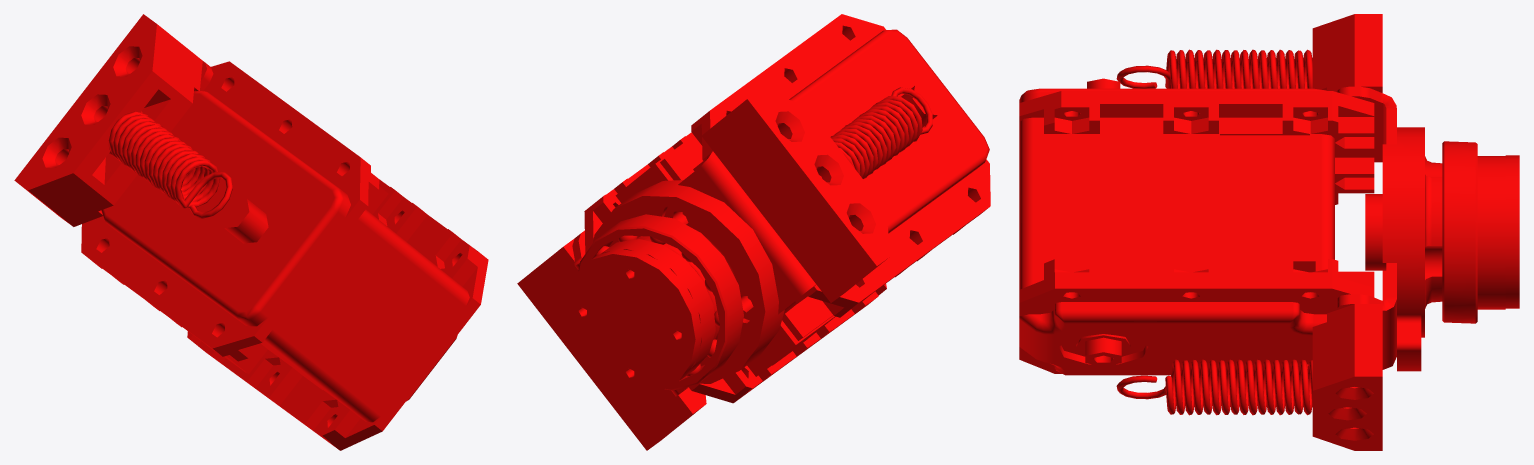
The model's file is Elbow_Roll.dae.
3 views of the same model, side by side, from view 1: azimuth 30°, elevation 25°; view 2: azimuth 150°, elevation 25°; view 3: azimuth 270°, elevation 25° (orthographic). The views are drawn at different scales.
Visible parts, largest first — view 1: ElbowRoll; view 2: ElbowRoll; view 3: ElbowRoll.
Part boxes in pixels (x1,y1,x2,y2): ElbowRoll: (14,14,488,450); ElbowRoll: (517,14,990,450); ElbowRoll: (1019,14,1519,450).
Bounding box in the file's own units: 0.0608 × 0.0608 × 0.0713.
